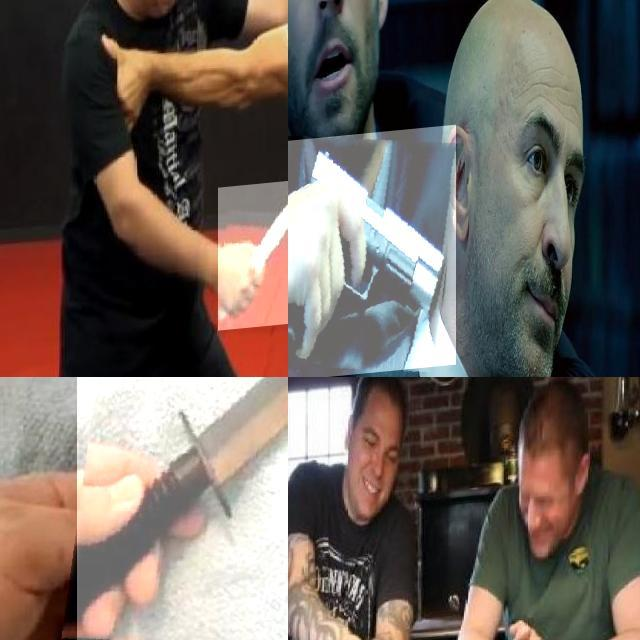-: (77, 377, 288, 640), (217, 185, 288, 335)
gun-knife-thesis - v11 Yolov5 augmented: (288, 132, 456, 377)
